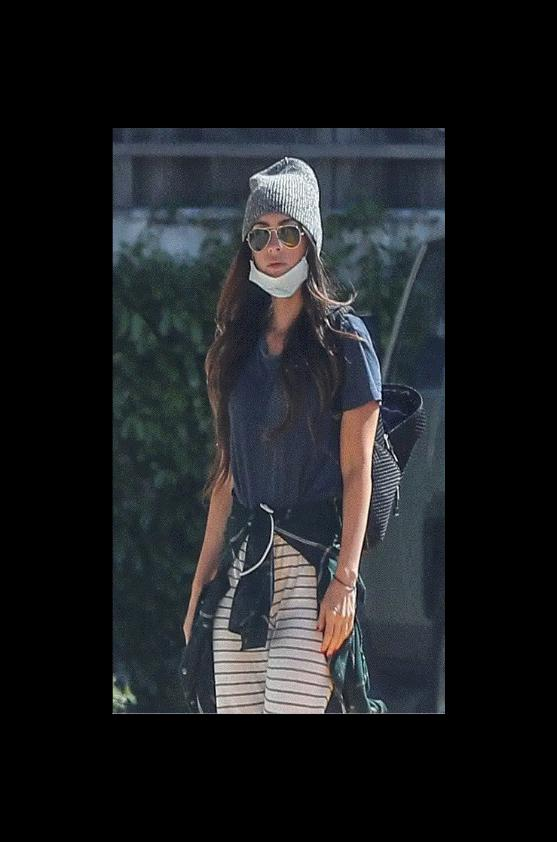mask_weared_incorrect: (248, 225, 307, 288)
